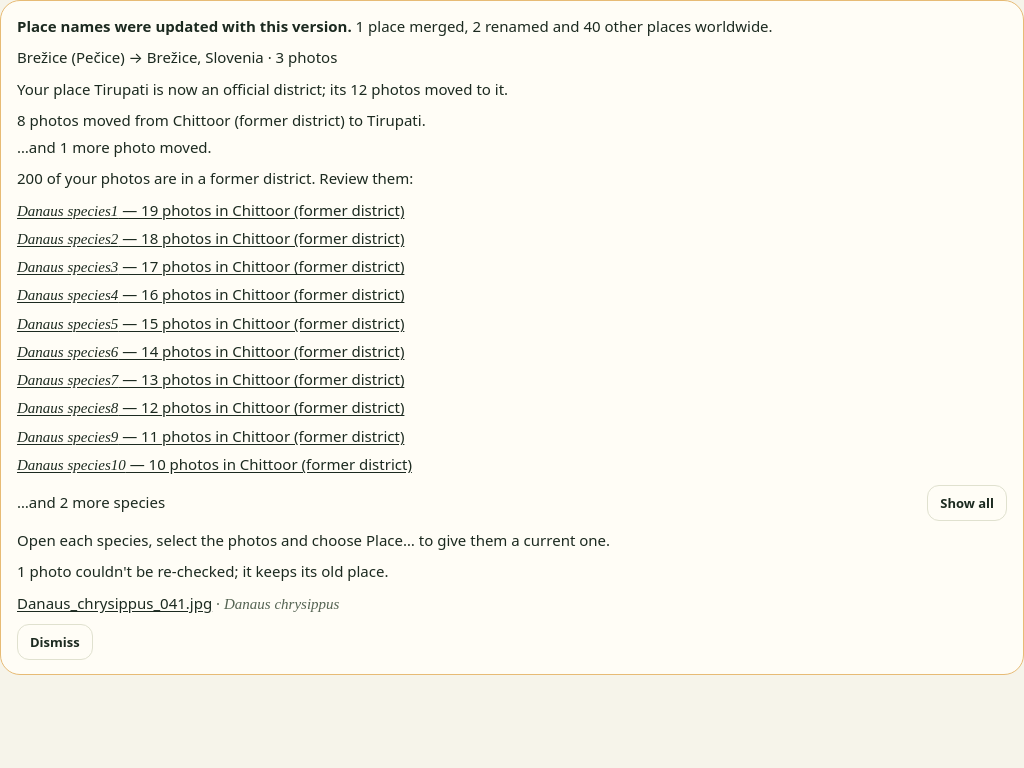
Test case: keyboard: every link and button of the note is in the Tab order, in reading order, and stays focusable while busy
Expected: the link "Danaus species1 — 19 photos in Chittoor (former district)" is enabled, [17,200,404,220]
Expected: the link "Danaus species2 — 18 photos in Chittoor (former district)" is enabled, [17,228,404,248]
// a Dismiss on its way leaves the button focusable (aria-disabled), not taken out of the Tab order
Click the button "Dismiss". click: (55, 642)
box: [17,624,93,660]
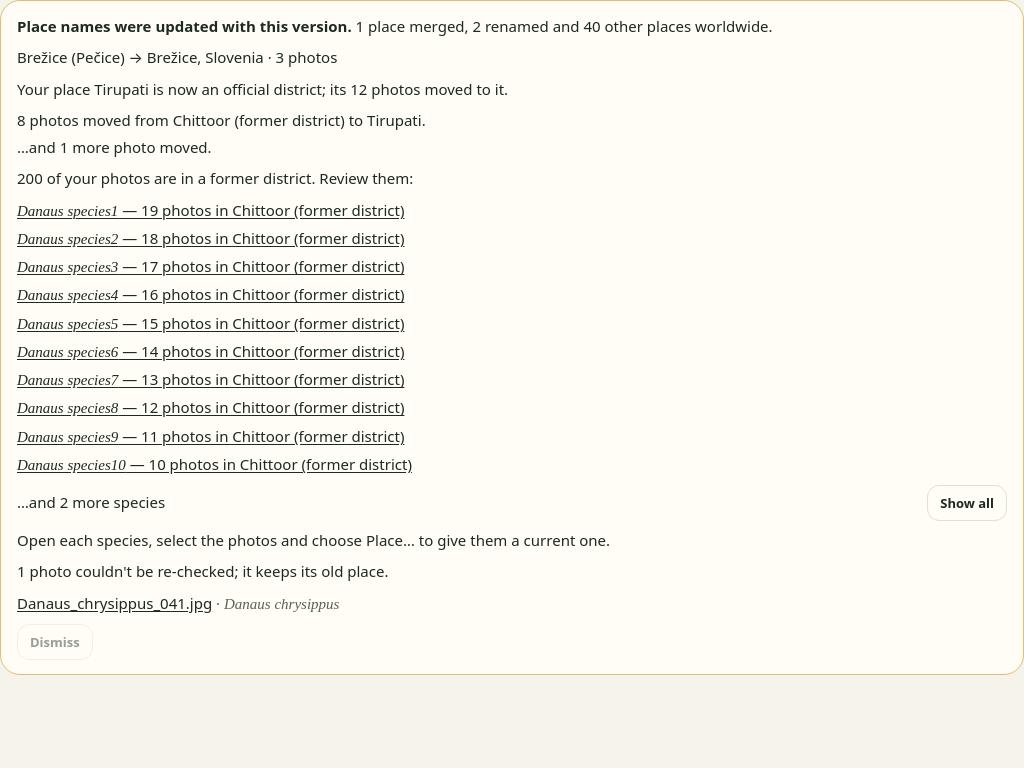
Now the button "Dismiss" is enabled, box [17,624,93,660]
